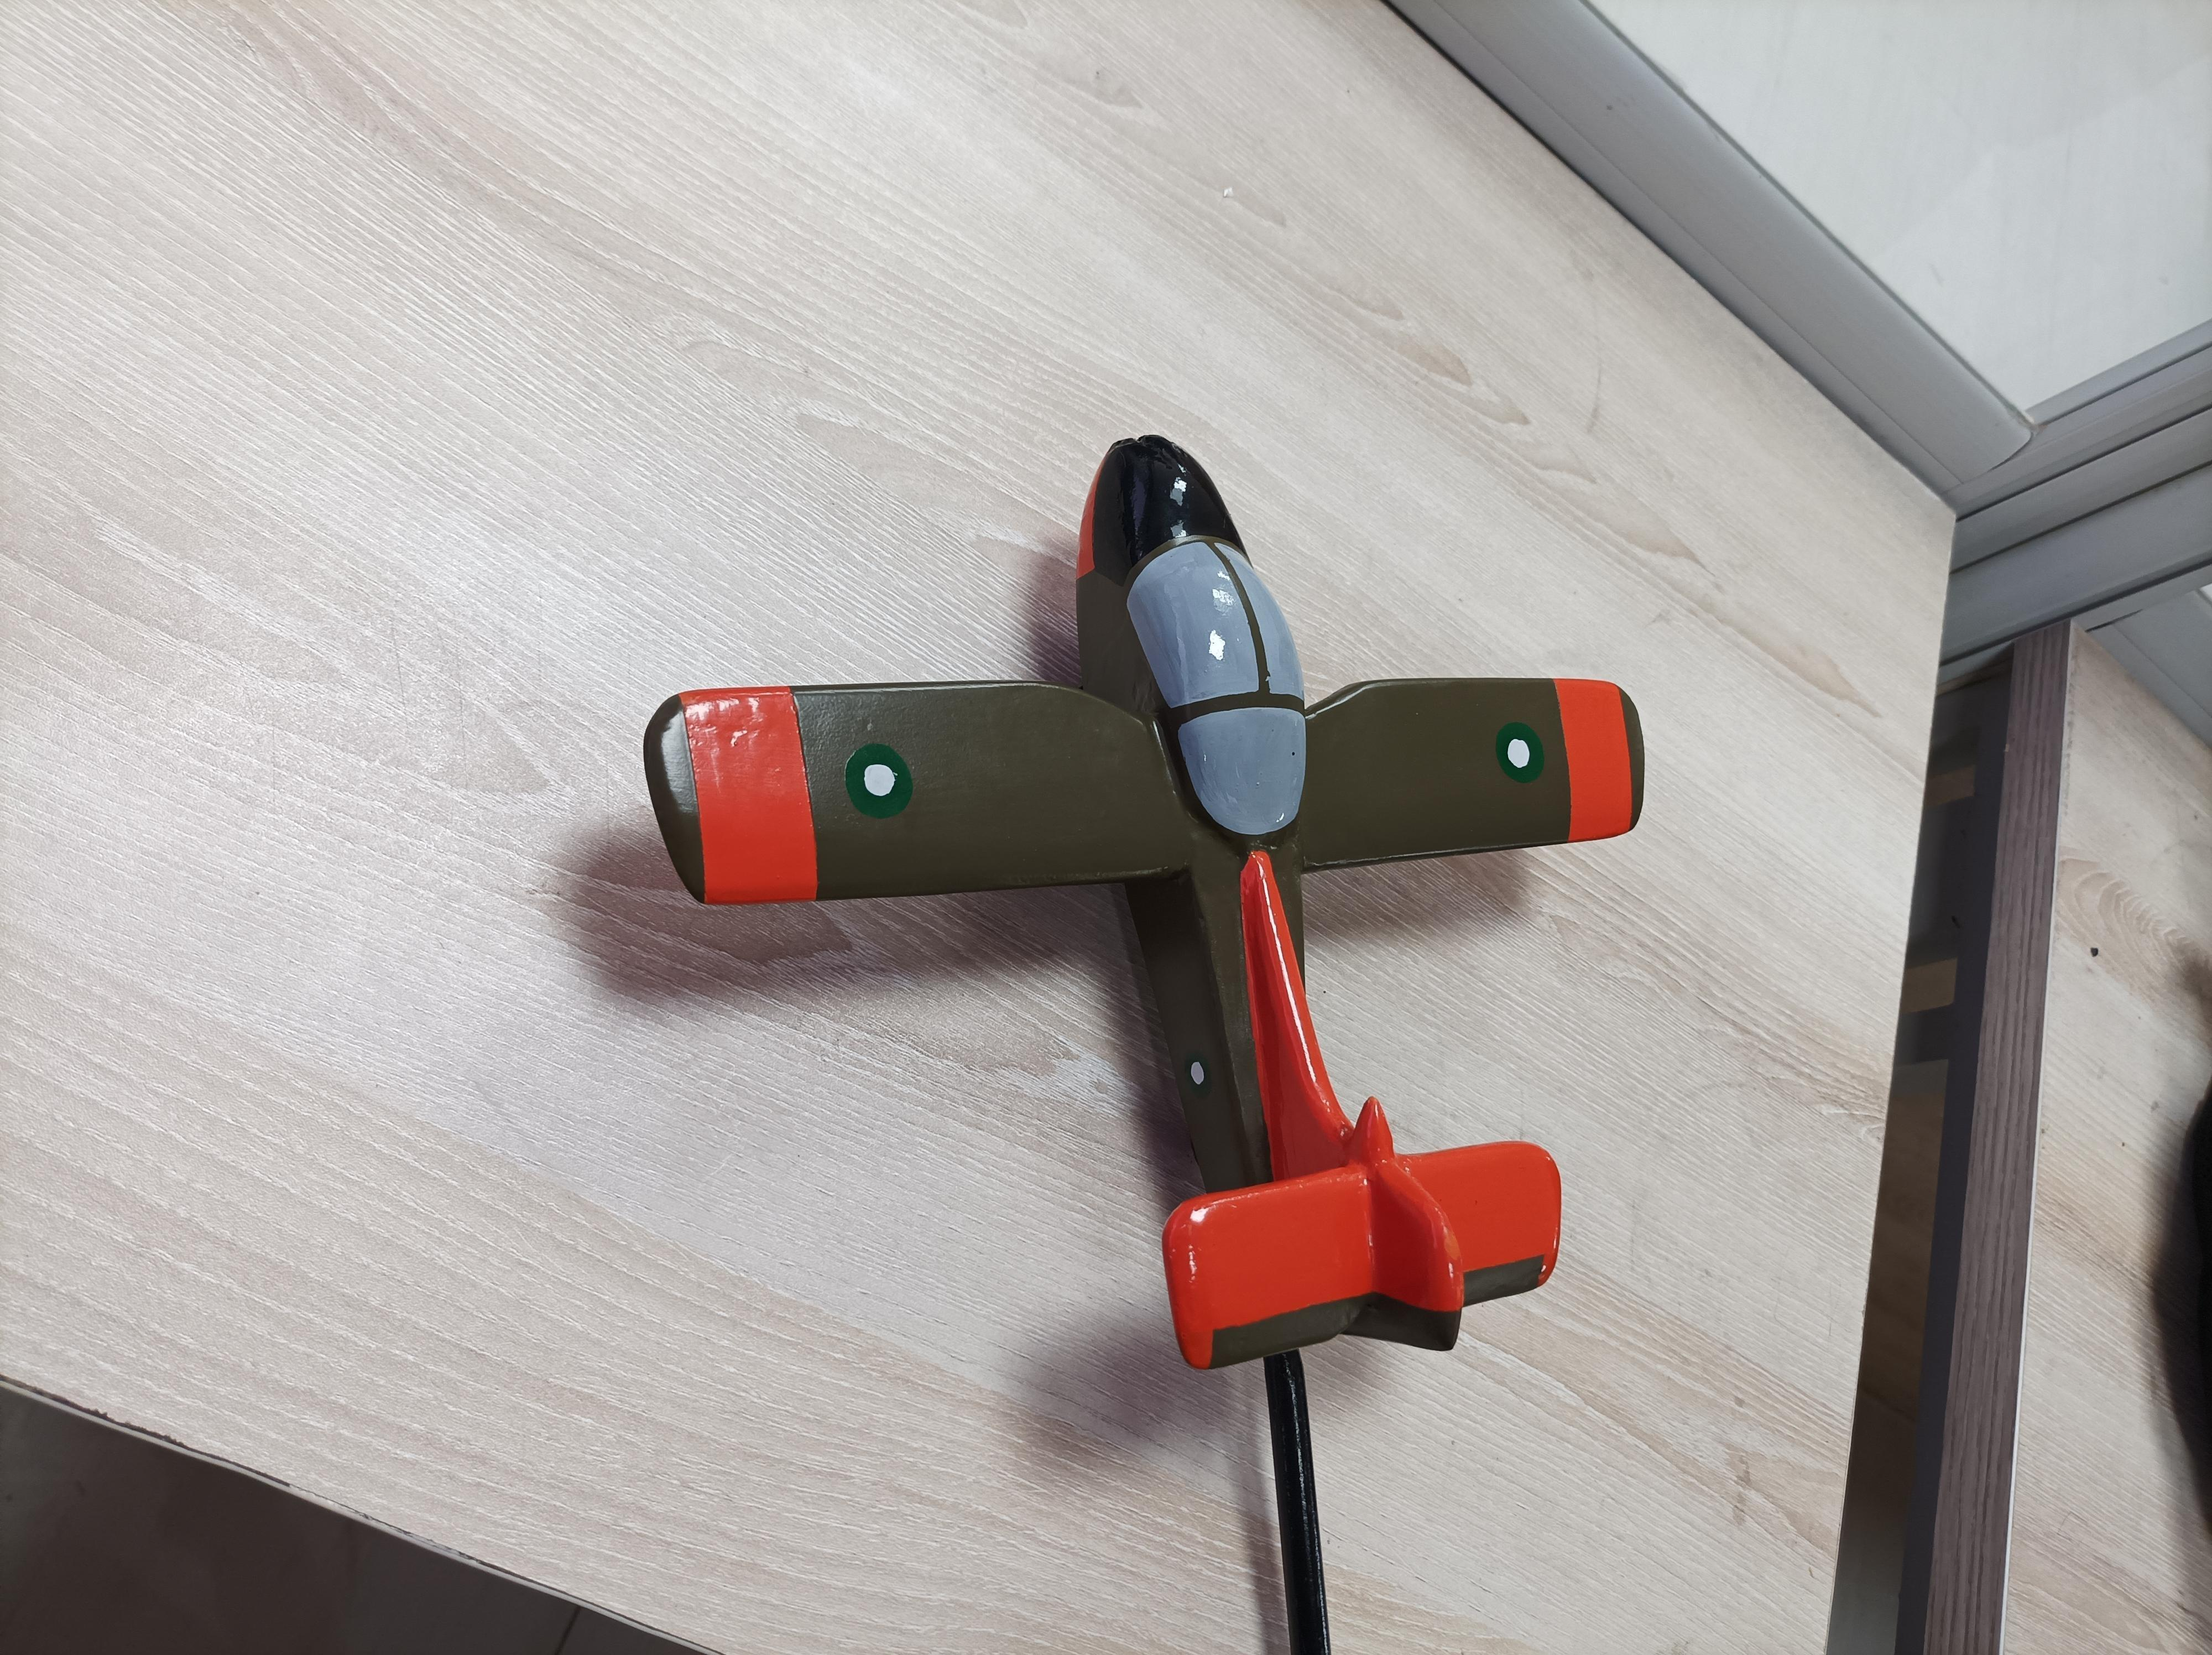Airplane: (613, 402, 1692, 1399)
